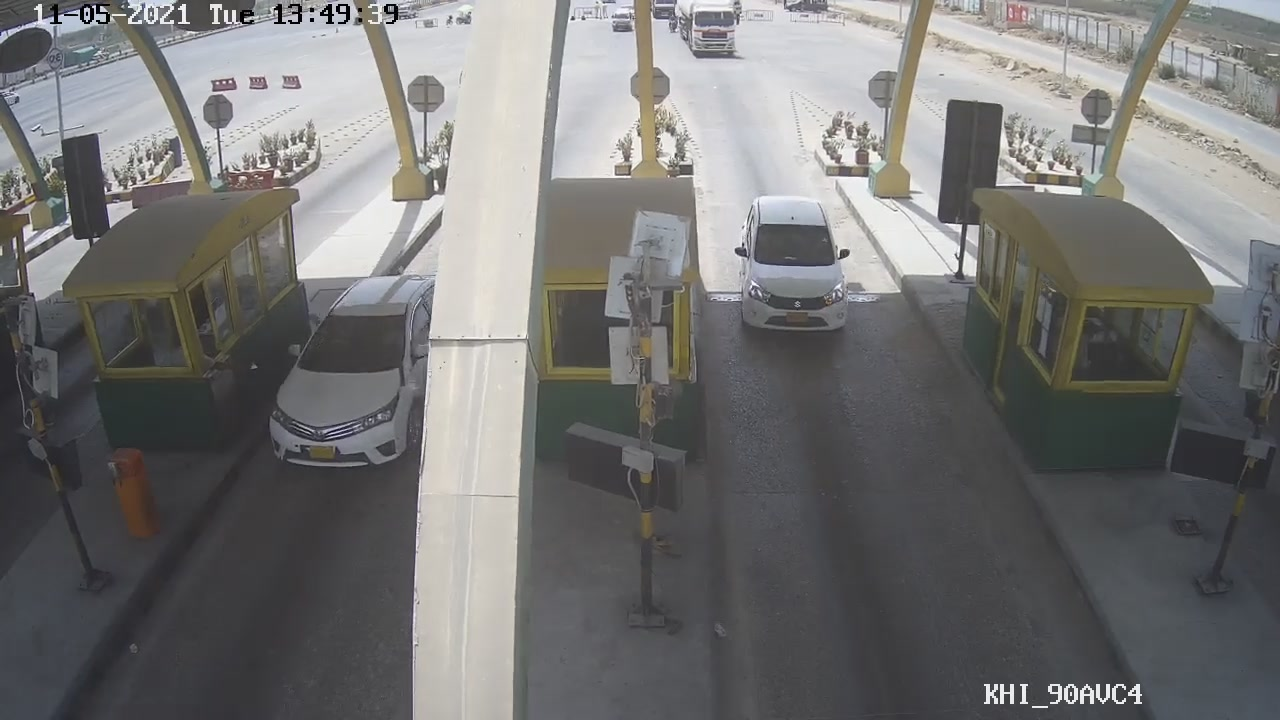F1: (728, 193, 854, 346)
